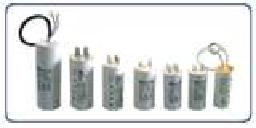Electrolytic Capacitor: (13, 8, 66, 116), (207, 45, 236, 119), (67, 42, 94, 118), (131, 57, 158, 124), (101, 52, 126, 117), (163, 61, 184, 118), (189, 63, 207, 115)
